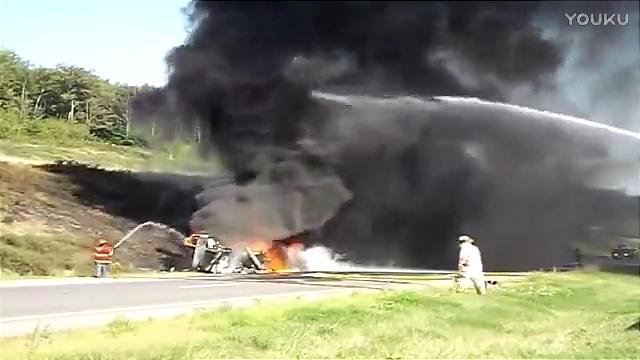fire: (264, 253, 290, 272)
